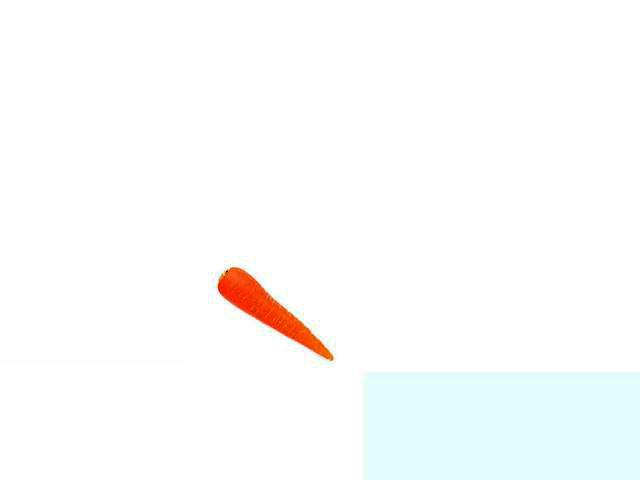carrot: (213, 266, 334, 362)
